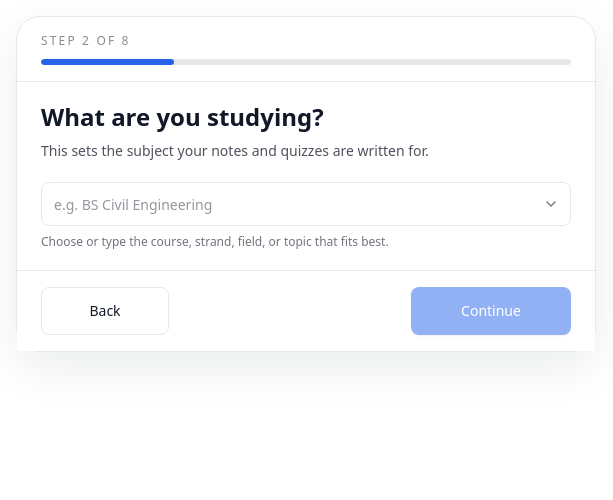
Test case: onboarding Course / Program step › fetches the catalog and lists catalog names ahead of the hardcoded suggestions
Expected: the field named "Course / Program" is shown, [41, 182, 571, 226]
Click the button named "Toggle course program suggestions" at (551, 204), box [531, 196, 571, 212]
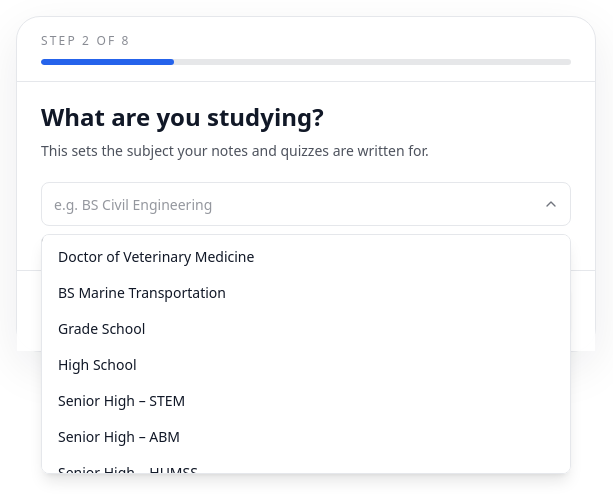
Result: the option "Doctor of Veterinary Medicine" is shown at [46, 239, 566, 275]
Result: the text "Grade School" is shown at [58, 319, 145, 339]
